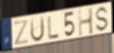5: (64, 10, 76, 39)
H: (77, 7, 95, 38)
L: (47, 15, 60, 40)
S: (95, 5, 110, 33)
U: (29, 15, 45, 43)
Z: (13, 19, 29, 47)
